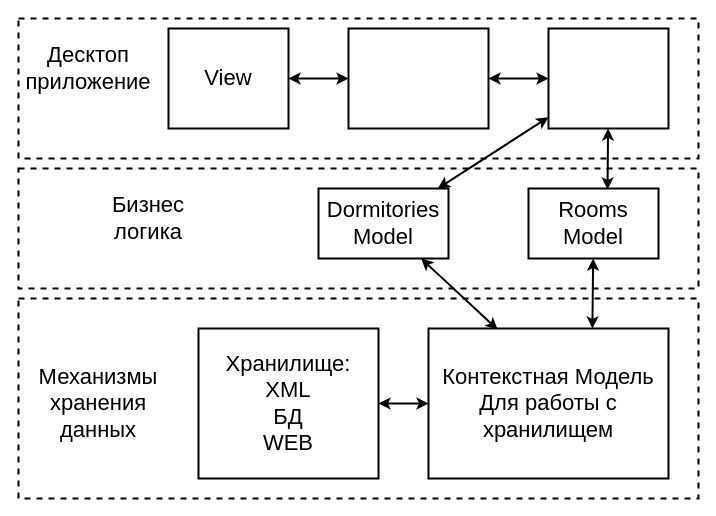
The diagram is 716 pixels wide and 516 high, and some of its shapes have lost their labels. The shapes that lost their labels are listed below. From the top down, each one's centre as x and y in pixels, then its label:
At (x=418, y=78): "ViewModel".
At (x=608, y=78): "Model".
